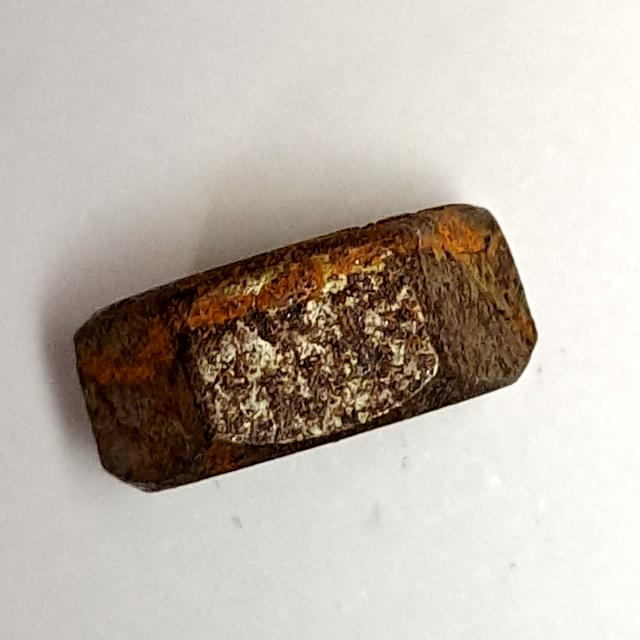Side_Rust: (57, 188, 547, 506)
